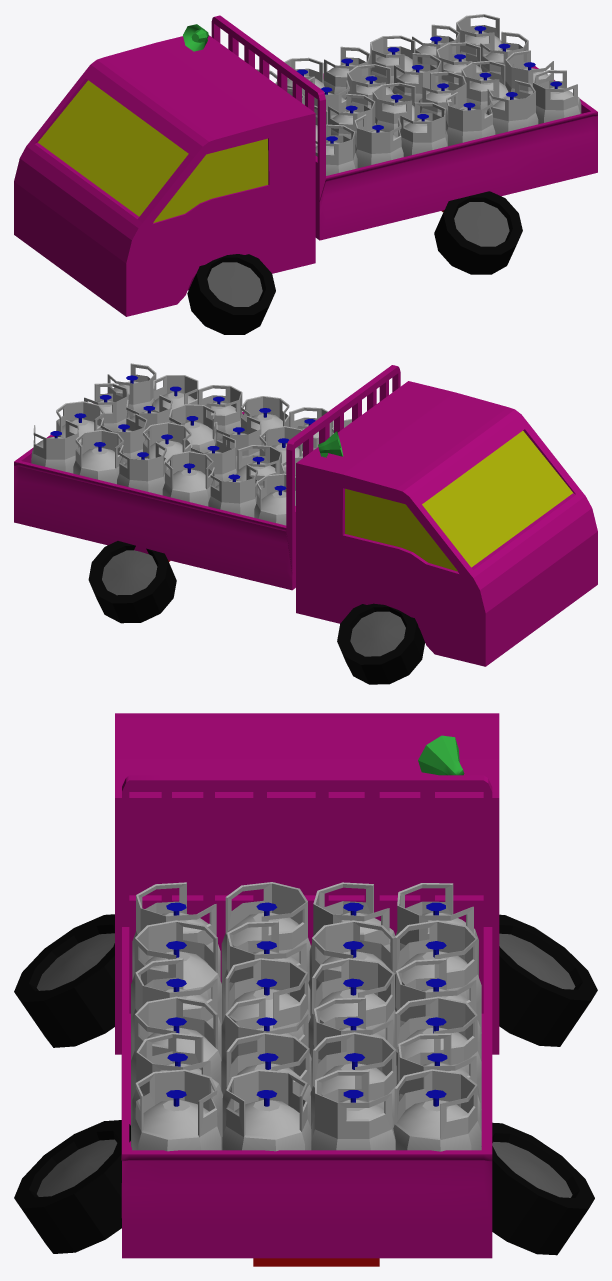
Rendered from GasTruckFixed.fbx.
The picture shows the model from 3 angles, top to bottom: view 1: azimuth 30°, elevation 25°; view 2: azimuth 150°, elevation 25°; view 3: azimuth 270°, elevation 25°; orthographic projection. The views are drawn at different scales.
Visible parts, largest first — view 1: polySurface37; view 2: polySurface37; view 3: polySurface37.
Boxes of the visible parts, x1=… form: polySurface37: x1=14, y1=14, x2=597, y2=334; polySurface37: x1=14, y1=363, x2=597, y2=684; polySurface37: x1=14, y1=713, x2=597, y2=1266.
Bounding box in the file's own units: 26.55 × 11.22 × 16.55.
